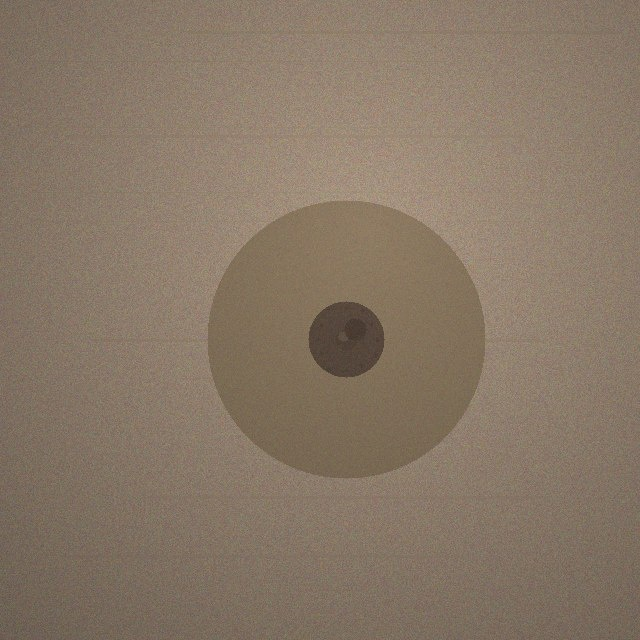cold_weld: (207, 200, 485, 478)
